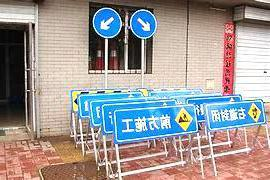sign: (111, 106, 196, 140), (206, 101, 266, 130)
